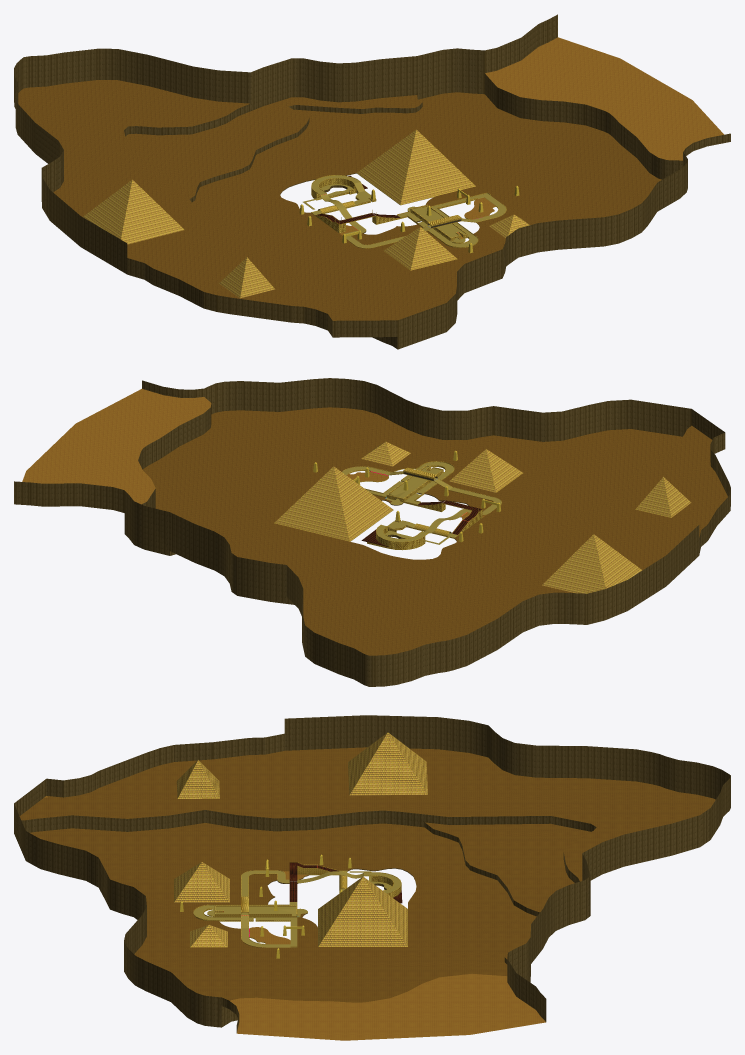
3 views of the same model, one above another, from view 1: azimuth 30°, elevation 25°; view 2: azimuth 150°, elevation 25°; view 3: azimuth 270°, elevation 25° (orthographic). The views are drawn at different scales.
Parts seen in each view (by area): view 1: SandSpeedway_II_2k17_Main-sandfallbound, SandSpeedway_II_2k17_Main-parois, SandSpeedway_II_2k17_Main-sandOffroad, SandSpeedway_II_2k17_Main-pyramide, SandSpeedway_II_2k17_Main-route1, SandSpeedway_II_2k17_Main-Mur1, SandSpeedway_II_2k17_Main-obelisk; view 2: SandSpeedway_II_2k17_Main-sandfallbound, SandSpeedway_II_2k17_Main-parois, SandSpeedway_II_2k17_Main-pyramide, SandSpeedway_II_2k17_Main-sandOffroad, SandSpeedway_II_2k17_Main-route1, SandSpeedway_II_2k17_Main-Mur1, SandSpeedway_II_2k17_Main-passerelle, SandSpeedway_II_2k17_Main-obelisk; view 3: SandSpeedway_II_2k17_Main-sandfallbound, SandSpeedway_II_2k17_Main-parois, SandSpeedway_II_2k17_Main-sandOffroad, SandSpeedway_II_2k17_Main-pyramide, SandSpeedway_II_2k17_Main-route1, SandSpeedway_II_2k17_Main-Mur1, SandSpeedway_II_2k17_Main-passerelle.
Part boxes in pixels (x1=…): SandSpeedway_II_2k17_Main-sandfallbound: x1=18, y1=80, x2=661, y2=320; SandSpeedway_II_2k17_Main-parois: x1=14, y1=14, x2=730, y2=349; SandSpeedway_II_2k17_Main-sandOffroad: x1=339, y1=37, x2=723, y2=238; SandSpeedway_II_2k17_Main-pyramide: x1=83, y1=129, x2=529, y2=298; SandSpeedway_II_2k17_Main-route1: x1=303, y1=175, x2=506, y2=247; SandSpeedway_II_2k17_Main-Mur1: x1=303, y1=175, x2=506, y2=248; SandSpeedway_II_2k17_Main-obelisk: x1=299, y1=186, x2=519, y2=253; SandSpeedway_II_2k17_Main-sandfallbound: x1=143, y1=407, x2=727, y2=655; SandSpeedway_II_2k17_Main-parois: x1=14, y1=378, x2=730, y2=686; SandSpeedway_II_2k17_Main-pyramide: x1=274, y1=442, x2=691, y2=593; SandSpeedway_II_2k17_Main-sandOffroad: x1=22, y1=389, x2=485, y2=532; SandSpeedway_II_2k17_Main-route1: x1=342, y1=462, x2=501, y2=544; SandSpeedway_II_2k17_Main-Mur1: x1=342, y1=461, x2=501, y2=550; SandSpeedway_II_2k17_Main-passerelle: x1=361, y1=500, x2=481, y2=546; SandSpeedway_II_2k17_Main-obelisk: x1=313, y1=450, x2=500, y2=542; SandSpeedway_II_2k17_Main-sandfallbound: x1=19, y1=747, x2=715, y2=1002; SandSpeedway_II_2k17_Main-parois: x1=14, y1=715, x2=730, y2=1032; SandSpeedway_II_2k17_Main-sandOffroad: x1=44, y1=796, x2=545, y2=1040; SandSpeedway_II_2k17_Main-pyramide: x1=174, y1=732, x2=427, y2=947; SandSpeedway_II_2k17_Main-route1: x1=193, y1=870, x2=401, y2=947; SandSpeedway_II_2k17_Main-Mur1: x1=193, y1=862, x2=401, y2=947; SandSpeedway_II_2k17_Main-passerelle: x1=289, y1=862, x2=402, y2=903.
Bounding box in the file's own units: 333226 × 30851 × 334388.
Materials: 13 (13 with a texture image).
